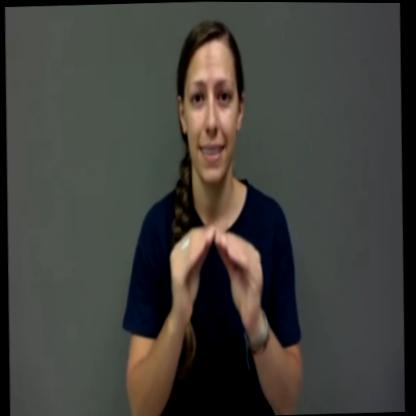Fix: (112, 13, 312, 416)
